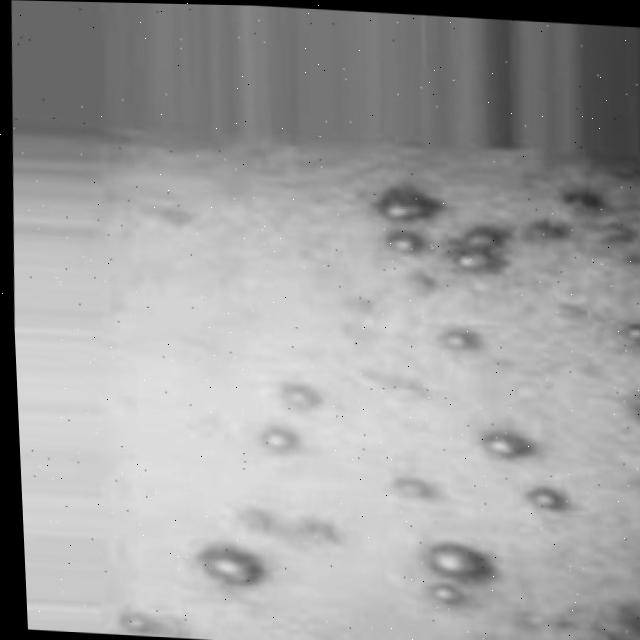Shingles: (197, 541, 260, 589), (375, 183, 437, 223), (425, 543, 486, 576), (456, 227, 503, 269), (481, 429, 521, 459), (527, 485, 569, 513), (235, 505, 273, 535), (390, 475, 432, 501), (304, 518, 341, 544), (280, 383, 314, 411), (529, 217, 567, 240), (404, 270, 437, 295), (561, 188, 598, 210), (599, 220, 632, 244), (388, 230, 418, 254), (429, 583, 461, 604), (551, 300, 582, 320), (442, 330, 471, 350), (263, 429, 289, 449), (123, 613, 149, 633), (626, 323, 640, 345), (633, 400, 640, 426)
